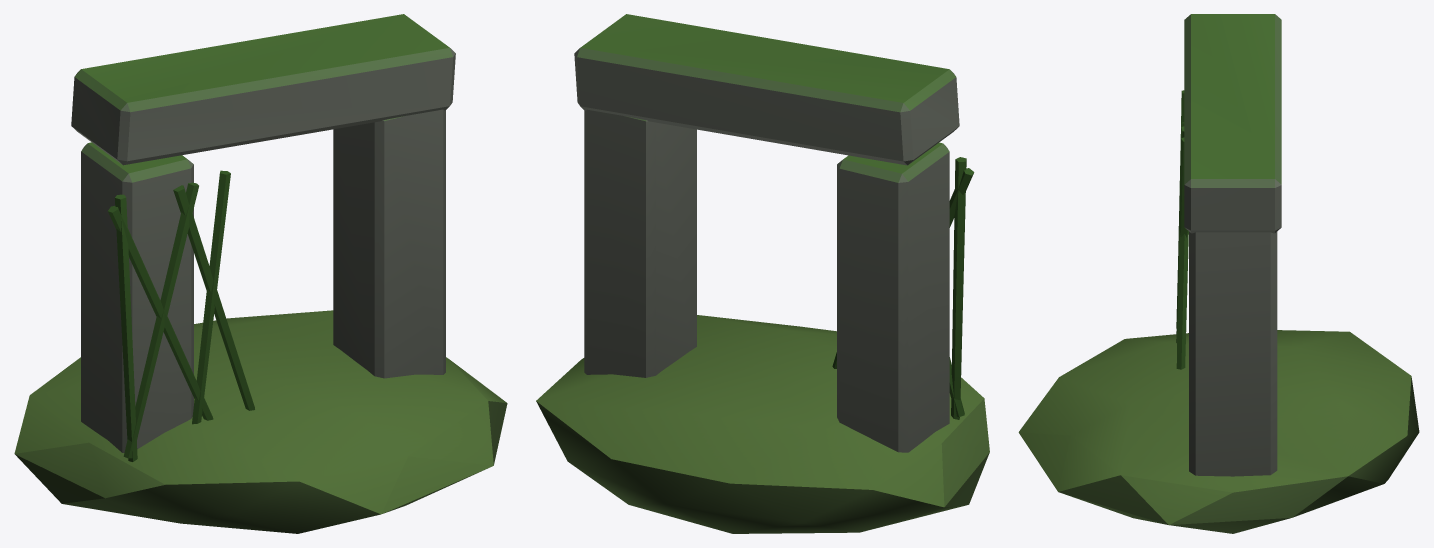
The model's file is jungle_ruin_b.glb.
3 renders of one model, left to right at view 1: azimuth 30°, elevation 25°; view 2: azimuth 150°, elevation 25°; view 3: azimuth 270°, elevation 25°, orthographic. The views are drawn at different scales.
Parts seen in each view (by area): view 1: jungle_ruin_b; view 2: jungle_ruin_b; view 3: jungle_ruin_b.
Boxes of the visible parts, x1,y1,x2,y2 form: jungle_ruin_b: (14,14,507,533); jungle_ruin_b: (536,14,989,533); jungle_ruin_b: (1018,14,1419,533).
Size of the model in its own units: 1.9 by 1.75 by 1.72.
